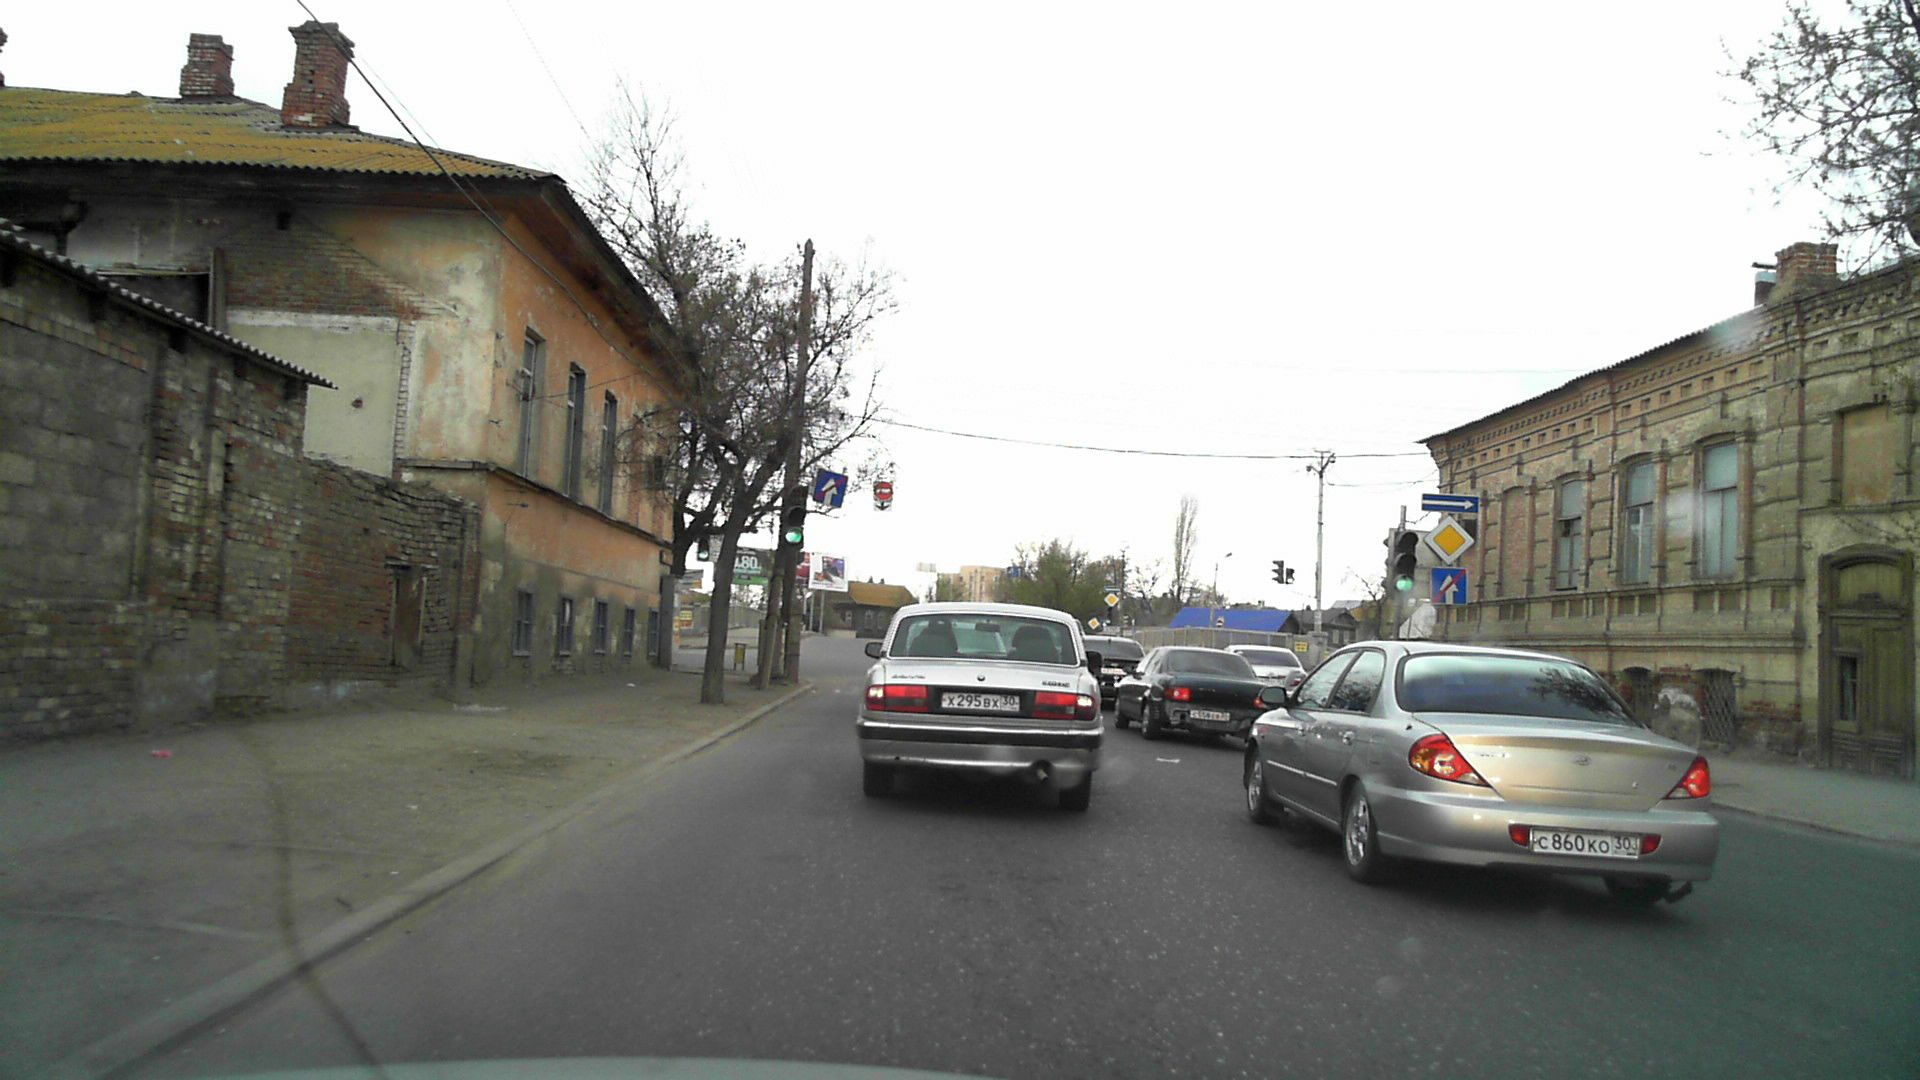One-Way Traffic: (1422, 493, 1480, 514)
